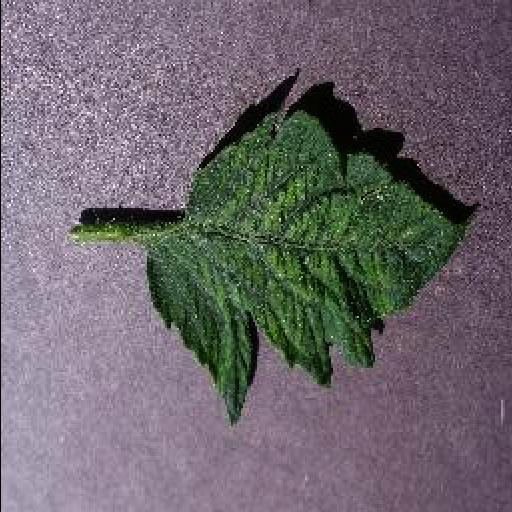disease_tomato: (144, 108, 464, 424)
